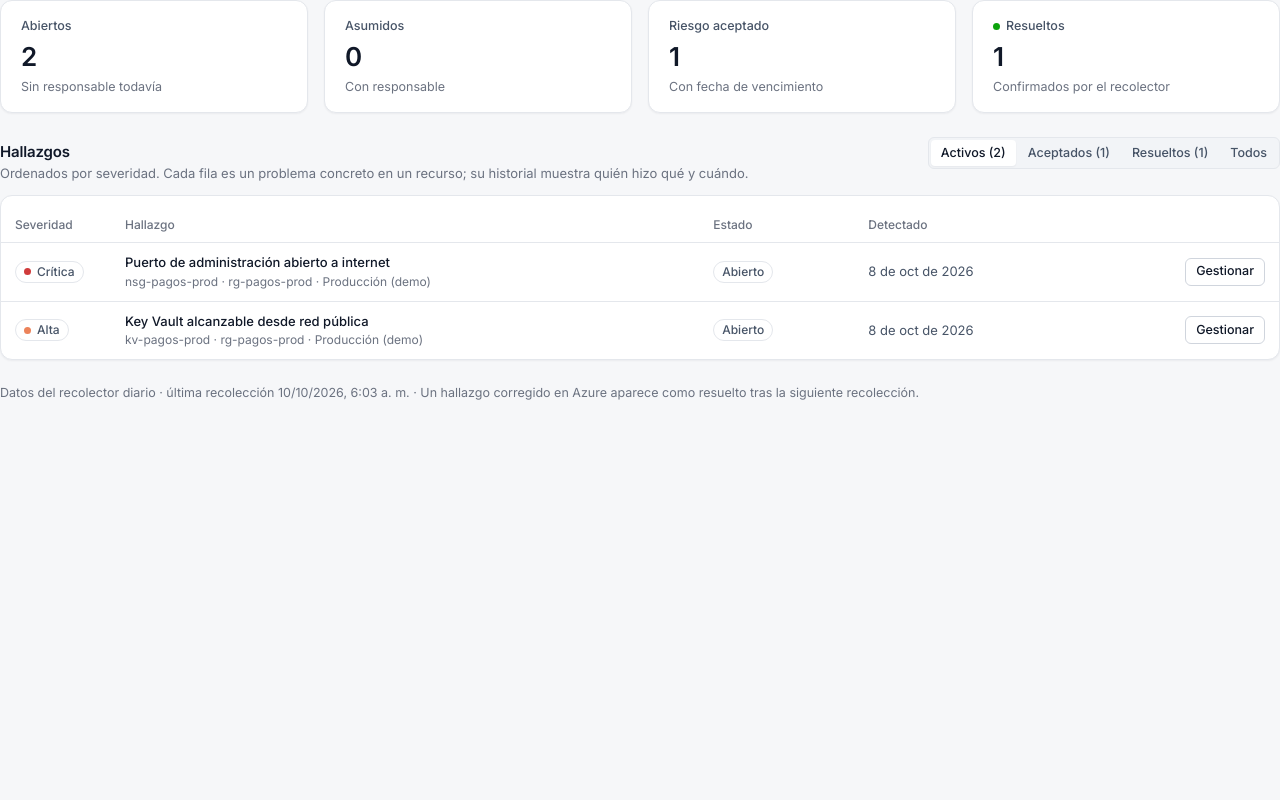
Test: Gestión de hallazgos › un lector no ve acciones de gestión
Expected: the text "kv-pagos-prod" is shown, [125, 332, 423, 347]
Click the button "Gestionar" in the row of "Alta". click: [1225, 330]
box: [1185, 316, 1265, 344]
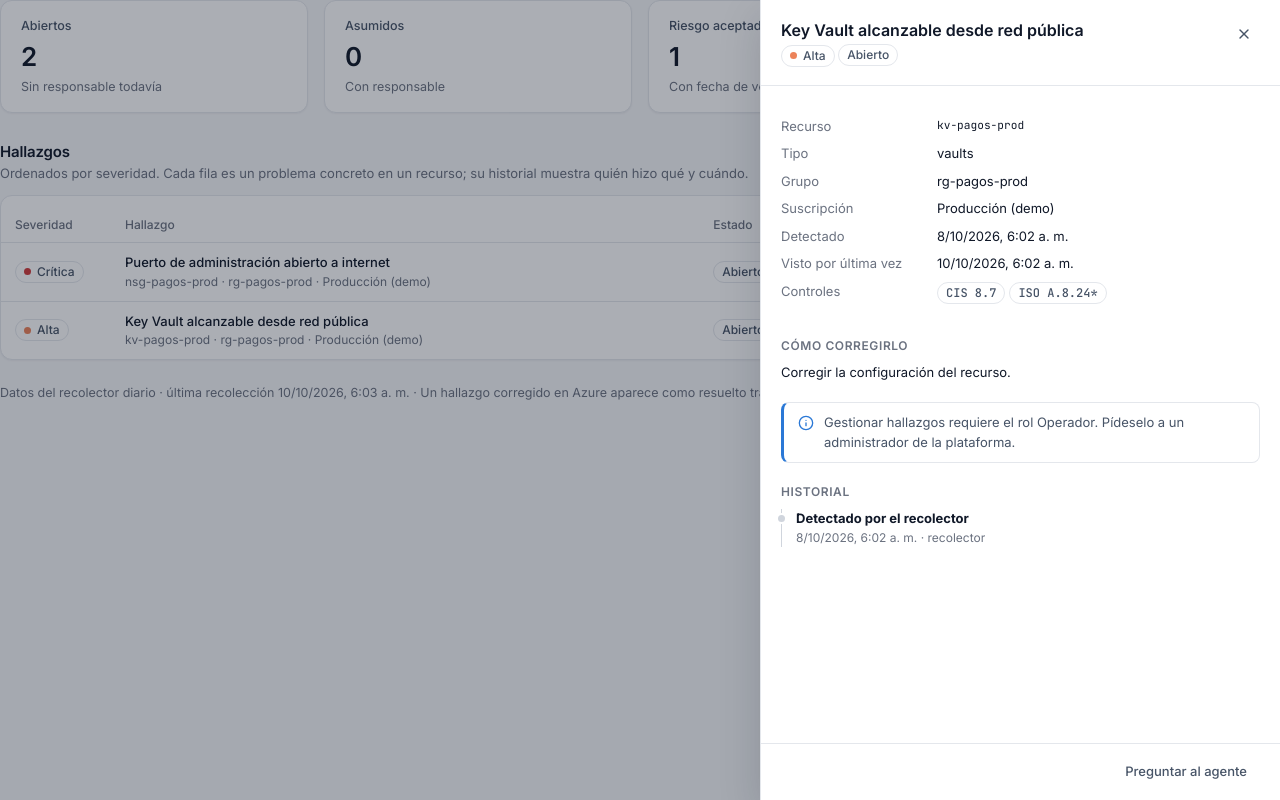
Expected: the text "requiere el rol Operador" is shown, [824, 414, 1184, 450]
Expected: the text "Detectado por el recolector" is shown, [796, 510, 969, 526]
